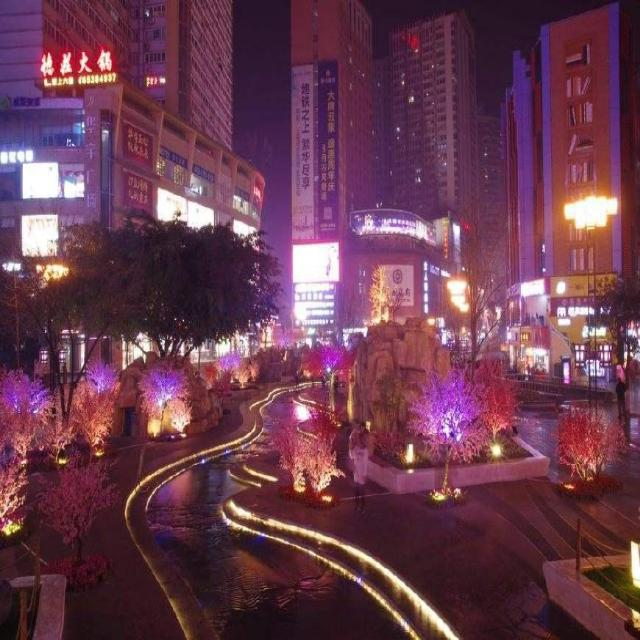other: (13, 156, 68, 260), (290, 220, 350, 306), (557, 192, 621, 242), (155, 182, 214, 236), (288, 387, 317, 437)
